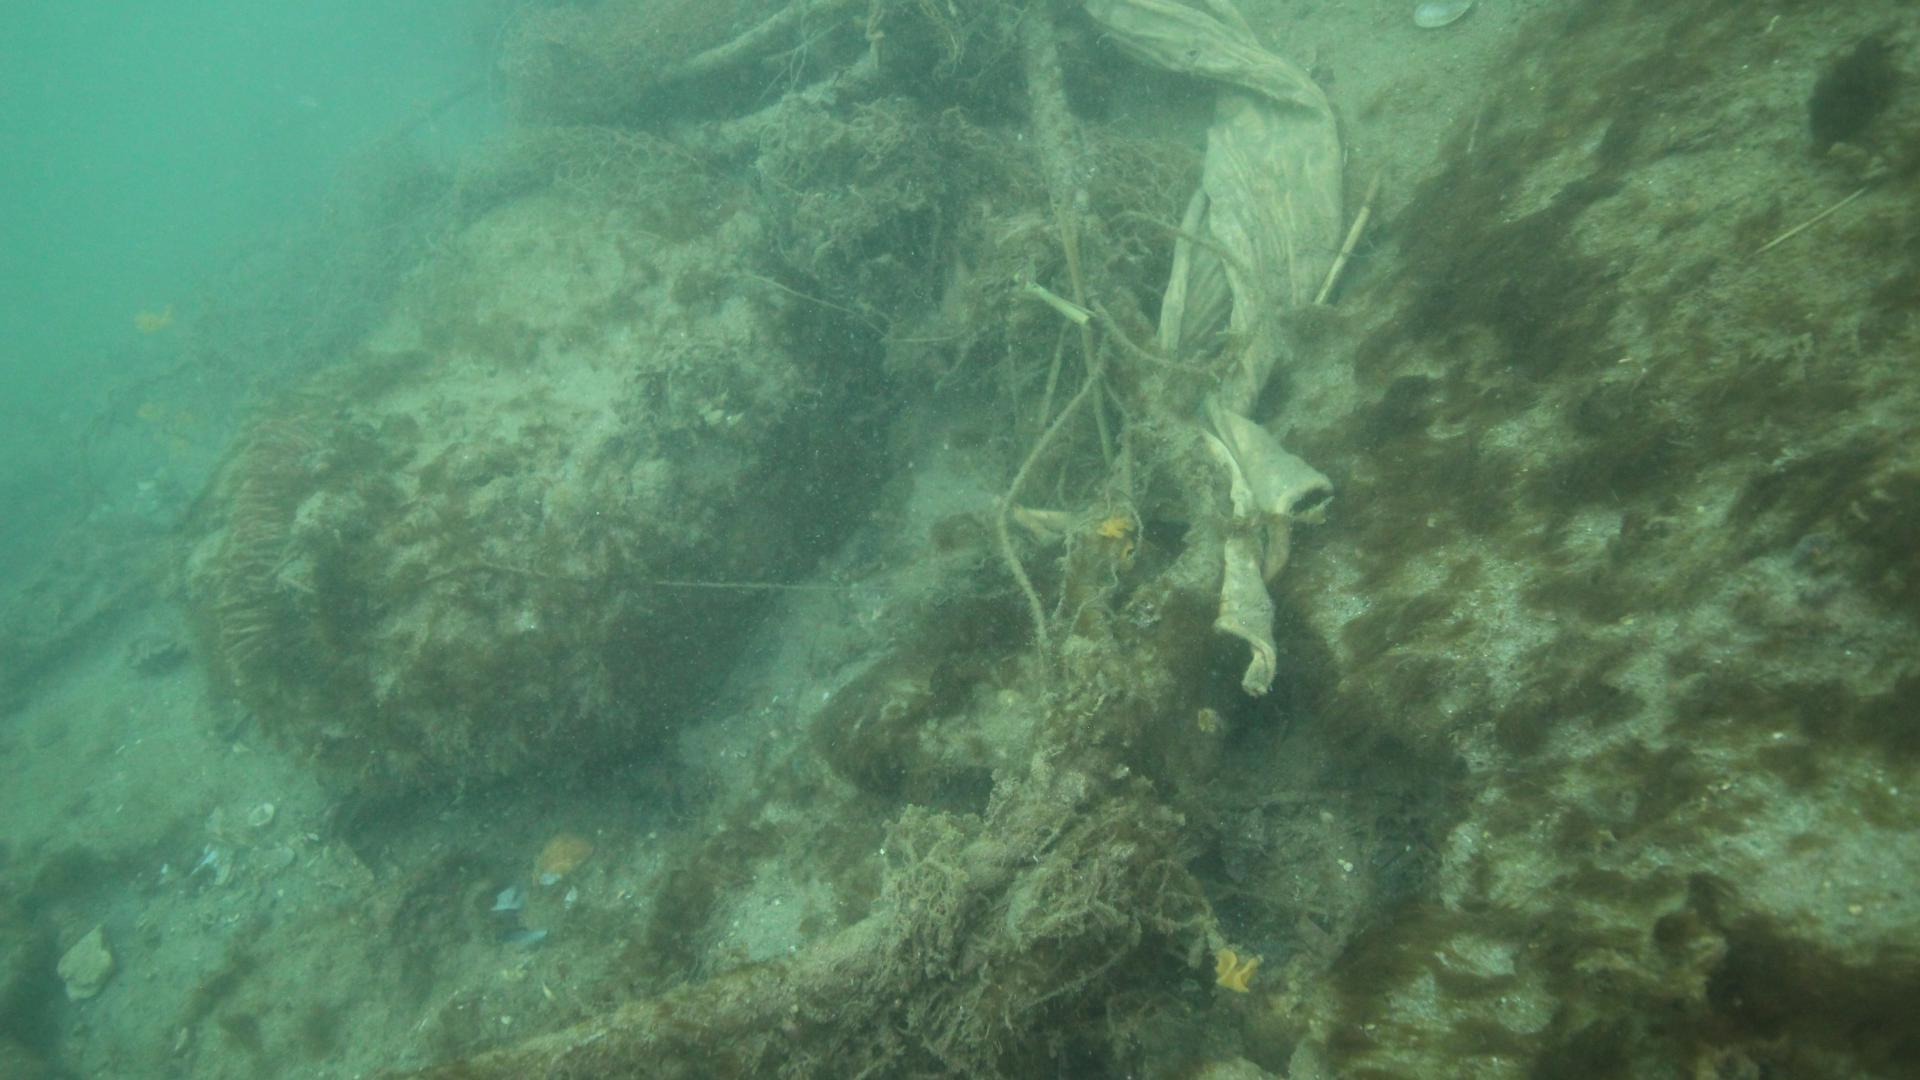rope: (425, 0, 1238, 1080)
